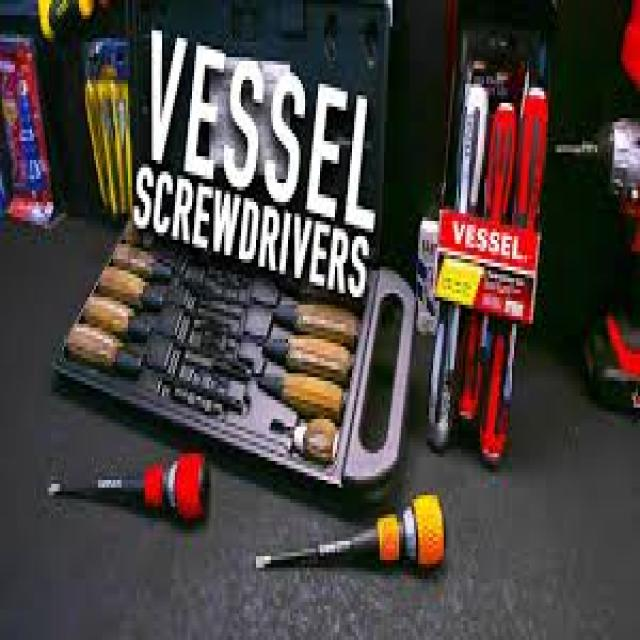screw driver: (239, 491, 455, 595), (28, 425, 208, 534)
